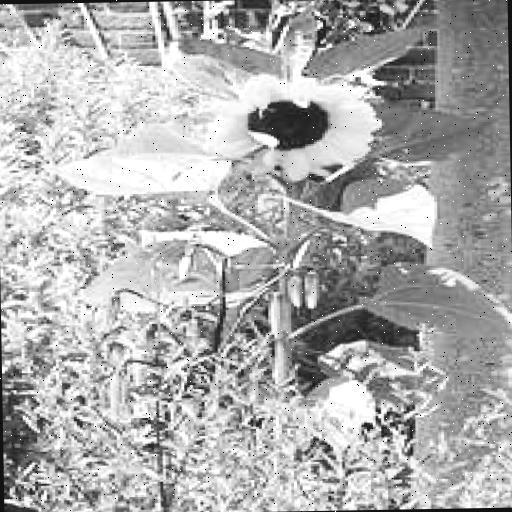sunflower: (208, 73, 380, 180)
